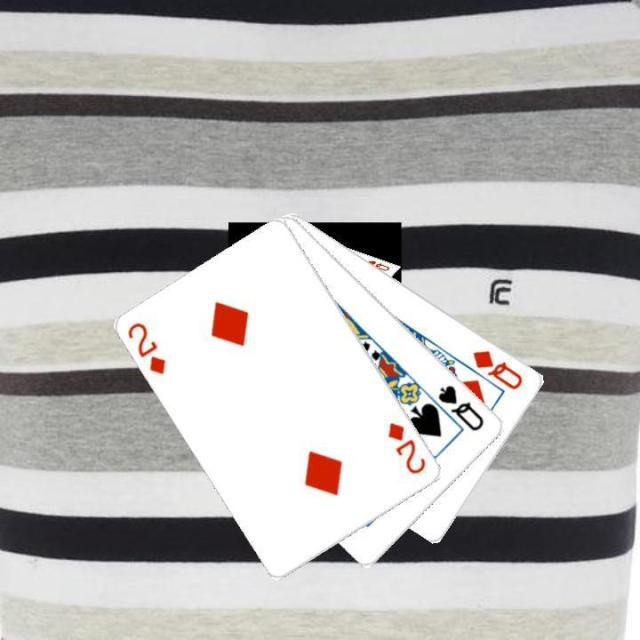2D: (123, 318, 169, 377), (384, 418, 428, 476)
QD: (468, 346, 526, 392)
QS: (435, 381, 486, 433)
